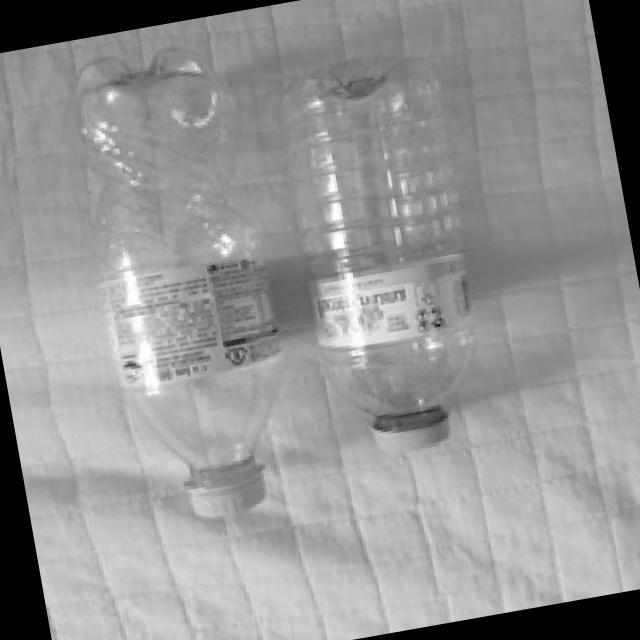good: (44, 34, 318, 540), (258, 37, 507, 476)
